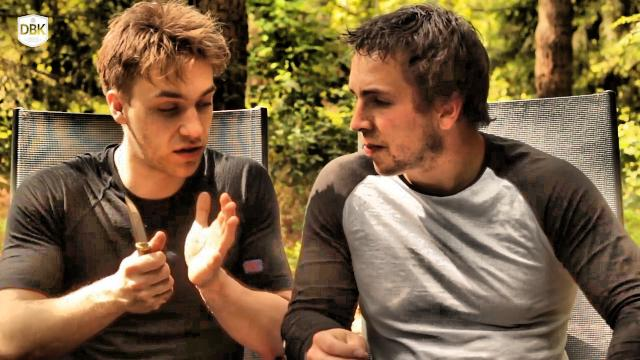knife: (108, 183, 174, 295)
